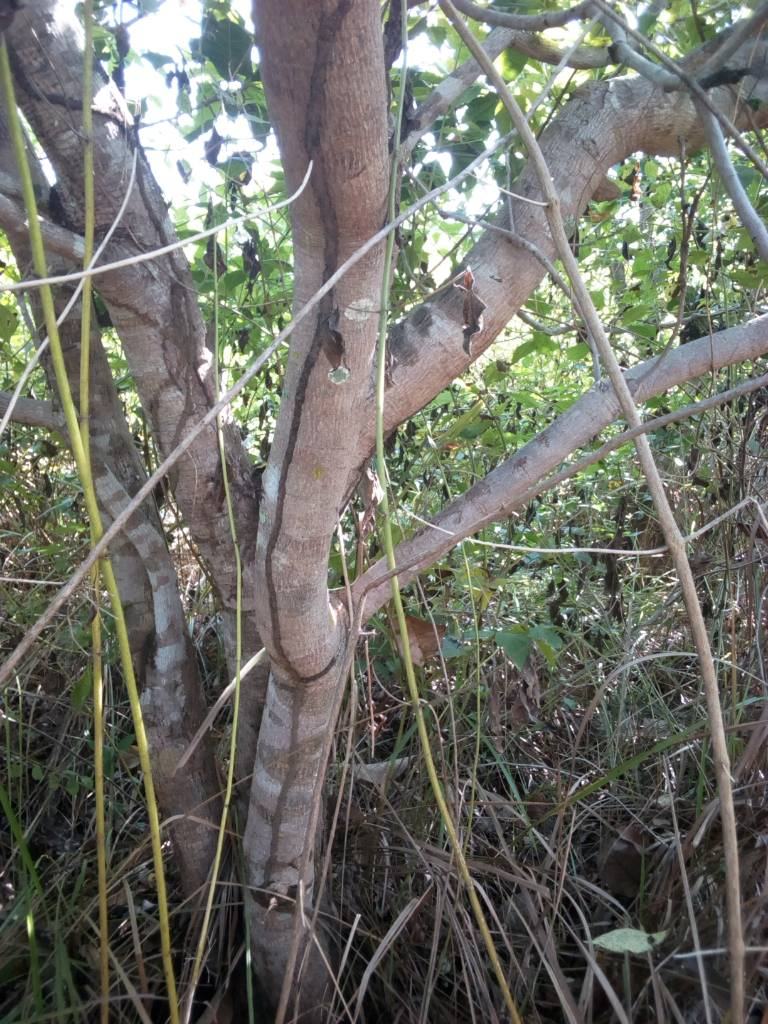Termites: (266, 410, 313, 683), (304, 14, 340, 369), (161, 271, 213, 457), (257, 710, 302, 913)
